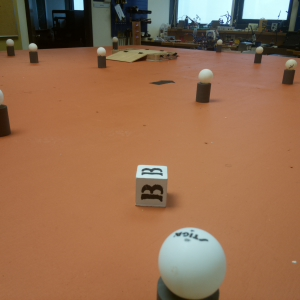obstacle: (153, 226, 235, 300), (195, 66, 214, 106), (1, 90, 13, 137), (282, 57, 296, 89), (95, 46, 108, 69), (29, 43, 40, 64), (6, 39, 17, 57), (254, 47, 264, 65), (109, 35, 121, 48), (214, 39, 225, 52)
side: (155, 52, 180, 62)
slope: (111, 51, 146, 62)
